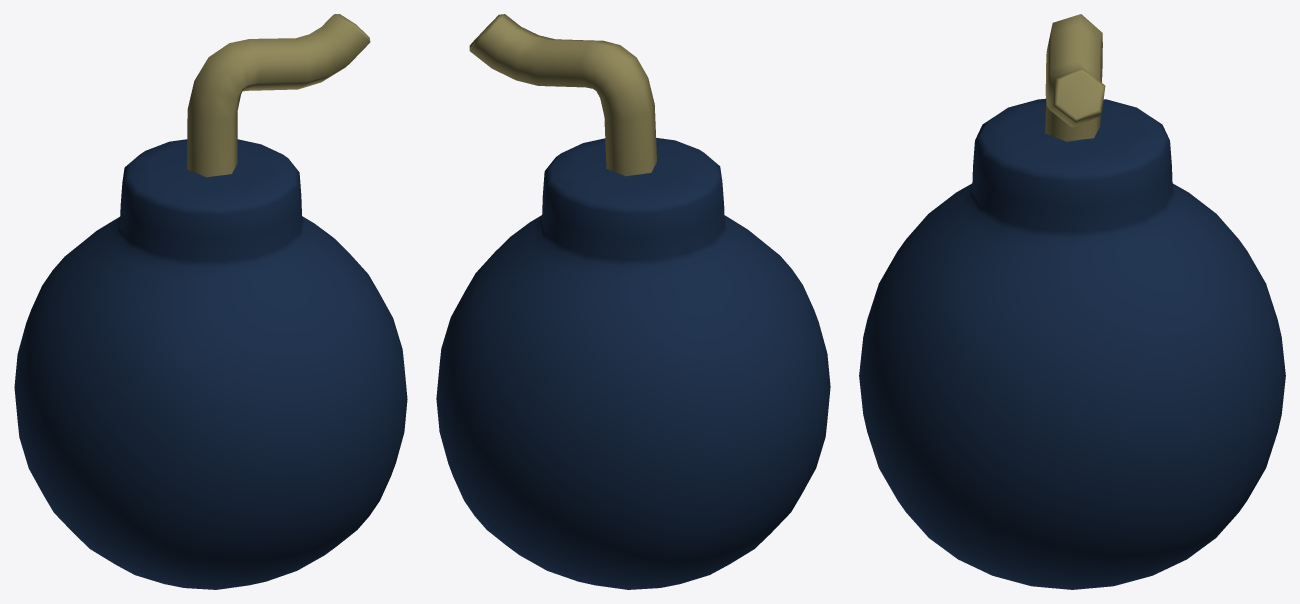
File: bombe.fbx
The picture shows the model from 3 angles, left to right: view 1: azimuth 30°, elevation 25°; view 2: azimuth 150°, elevation 25°; view 3: azimuth 270°, elevation 25°; orthographic projection. The views are drawn at different scales.
Visible parts, largest first — view 1: bombe; view 2: bombe; view 3: bombe.
Part boxes in pixels (<box>): bombe: <box>14,14,407,589</box>; bombe: <box>436,14,830,589</box>; bombe: <box>859,14,1285,589</box>.
Bounding box in the file's own units: 162 × 239 × 162.
